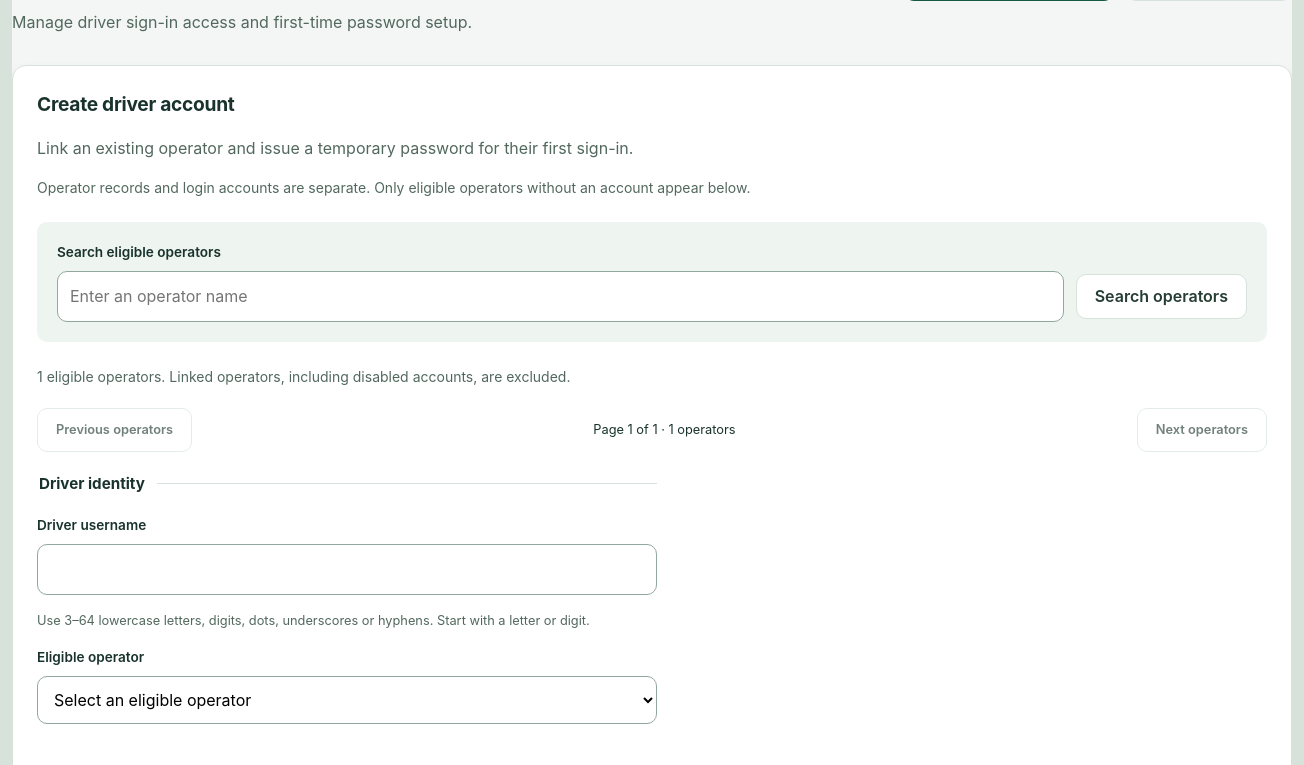
Scenario: React administrator accounts › clears a no-result eligible-operator search from page zero
The image size is (1304, 765).
Check: the dropdown labelled "Eligible operator" is enabled, box [37, 676, 657, 724]
In the search field labelled "Search eligible operators": (560, 297) [57, 271, 1064, 322], type "Missing"
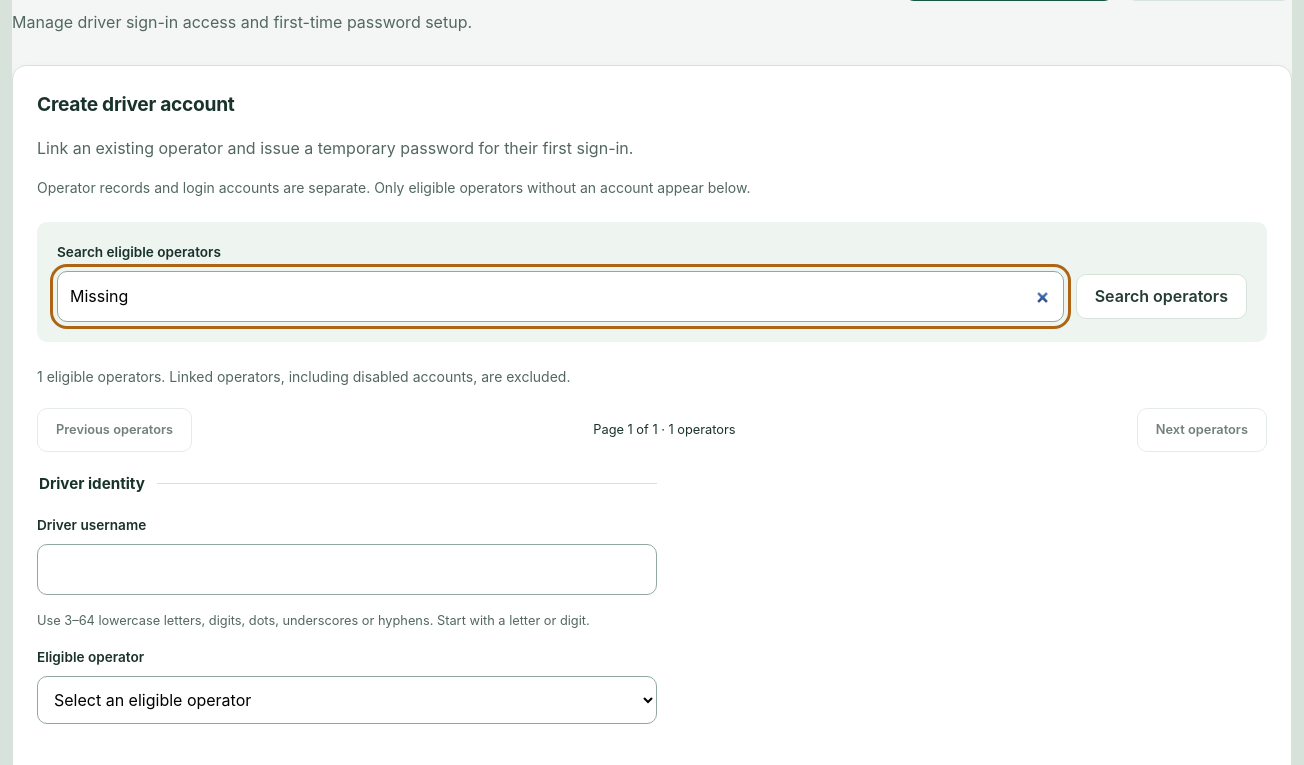
Click the button "Search operators": (1161, 297) [1076, 274, 1247, 319]
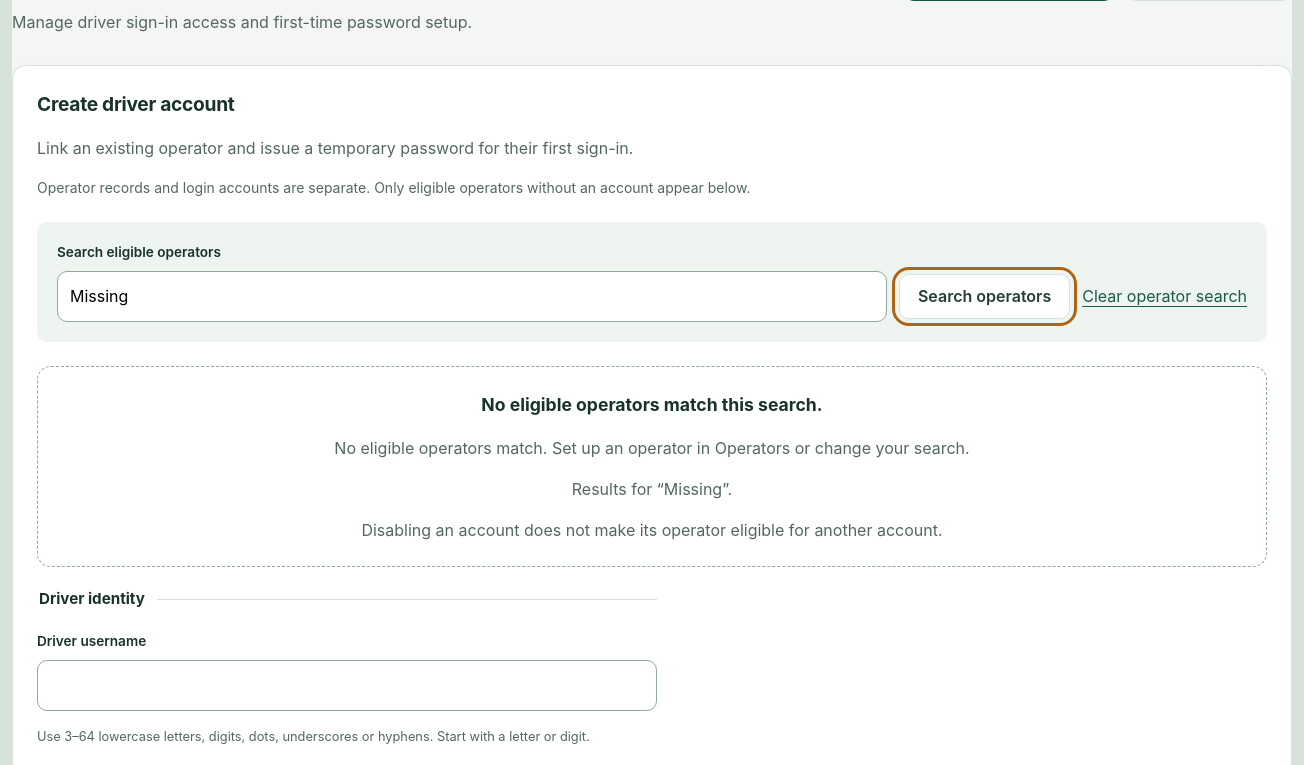
Check: the heading "No eligible operators match this search." is shown, box [481, 394, 823, 415]
Click the button "Clear operator search": (1165, 297) [1082, 275, 1247, 319]
(page scrolled)
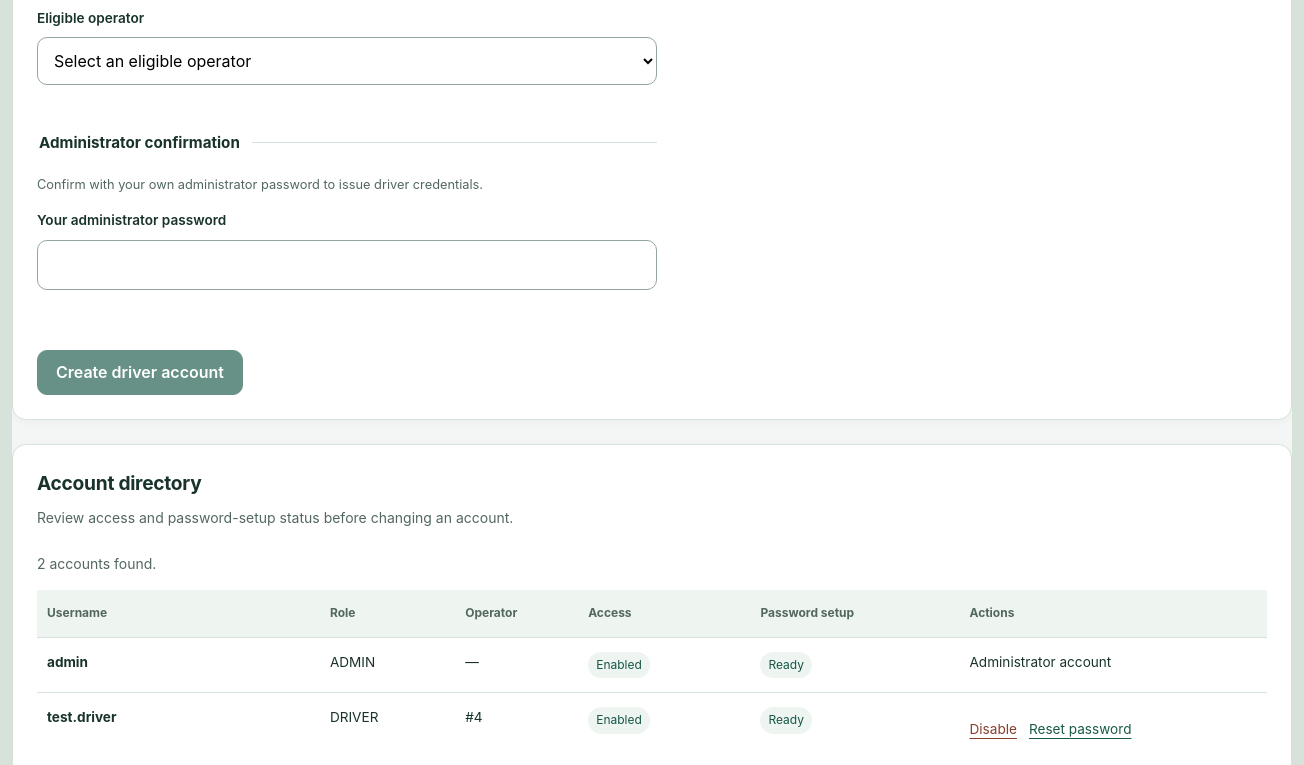
Check: the button "Create driver account" is disabled, box [37, 350, 243, 395]
Check: the dropdown labelled "Eligible operator" is enabled, box [37, 37, 657, 85]
